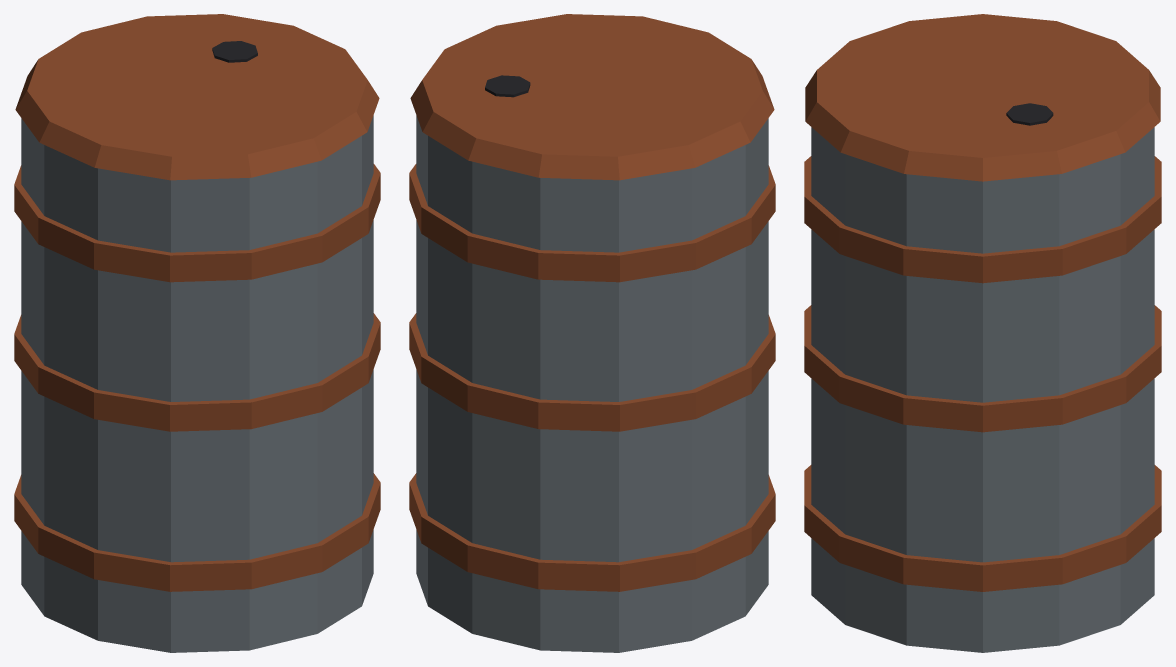
Rendered from barrel_rusty.glb.
3 views of the same model, side by side, from view 1: azimuth 30°, elevation 25°; view 2: azimuth 150°, elevation 25°; view 3: azimuth 270°, elevation 25° (orthographic).
Parts seen in each view (by area): view 1: barrel_rusty; view 2: barrel_rusty; view 3: barrel_rusty.
Boxes of the visible parts, left/top/right/bottom form: barrel_rusty: left=14, top=14, right=380, bottom=652; barrel_rusty: left=409, top=14, right=775, bottom=652; barrel_rusty: left=804, top=14, right=1161, bottom=652.
Size of what is drawn, in the model's own units: 0.624 by 0.93 by 0.6084.
Materials: 2 (2 with a texture image).
